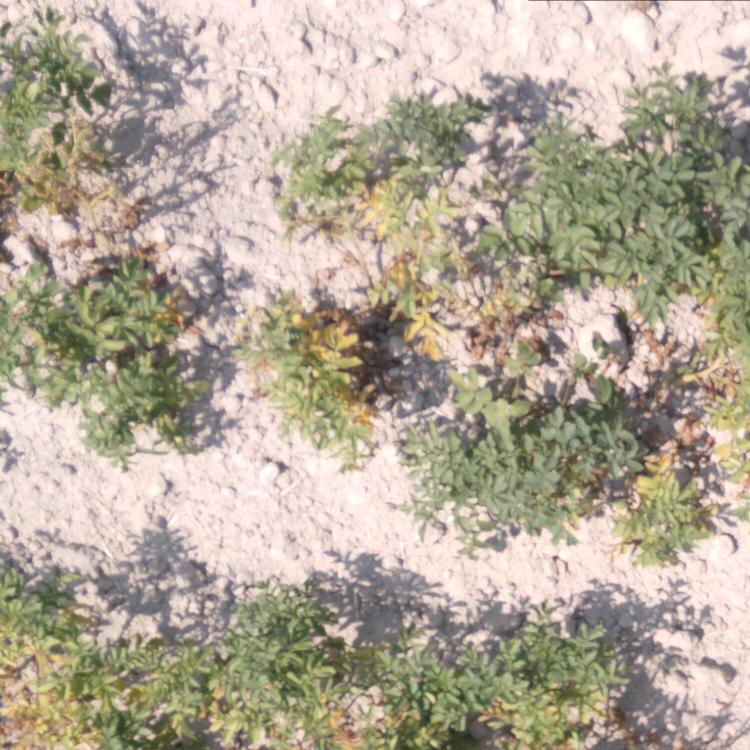healthy: (544, 77, 732, 269), (416, 391, 610, 535), (477, 94, 535, 240)
stressed: (370, 620, 656, 748), (70, 246, 193, 471), (276, 92, 458, 237), (1, 32, 129, 205), (253, 312, 383, 477), (2, 562, 111, 744), (223, 597, 346, 745), (615, 445, 716, 586), (669, 279, 749, 420), (385, 244, 471, 372), (119, 632, 208, 733), (1, 261, 62, 398), (482, 262, 544, 355), (712, 425, 746, 487)
